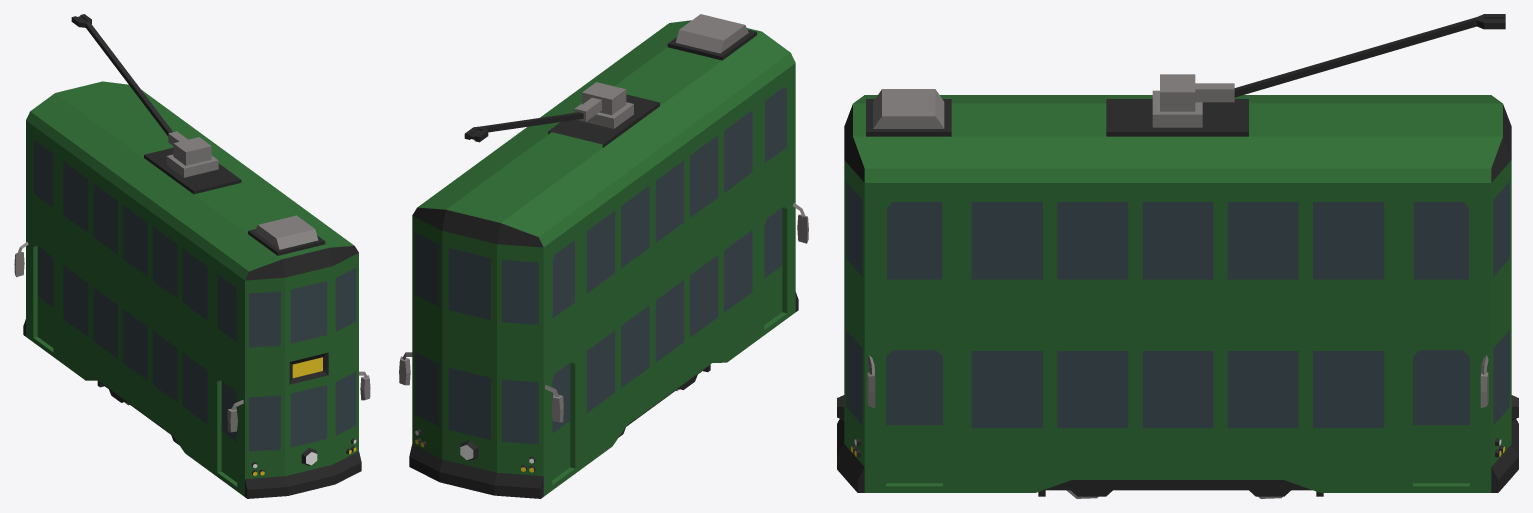
File: vehicles_tram-china.fbx
The picture shows the model from 3 angles, left to right: view 1: azimuth 30°, elevation 25°; view 2: azimuth 150°, elevation 25°; view 3: azimuth 270°, elevation 25°; orthographic projection. The views are drawn at different scales.
Parts seen in each view (by area): view 1: tram_china_base; view 2: tram_china_base; view 3: tram_china_base.
Boxes of the visible parts, x1=… form: tram_china_base: x1=14, y1=14, x2=370, y2=498; tram_china_base: x1=399, y1=14, x2=808, y2=498; tram_china_base: x1=837, y1=14, x2=1518, y2=496.
Size of the model in its own units: 68.59 by 149 by 200.
